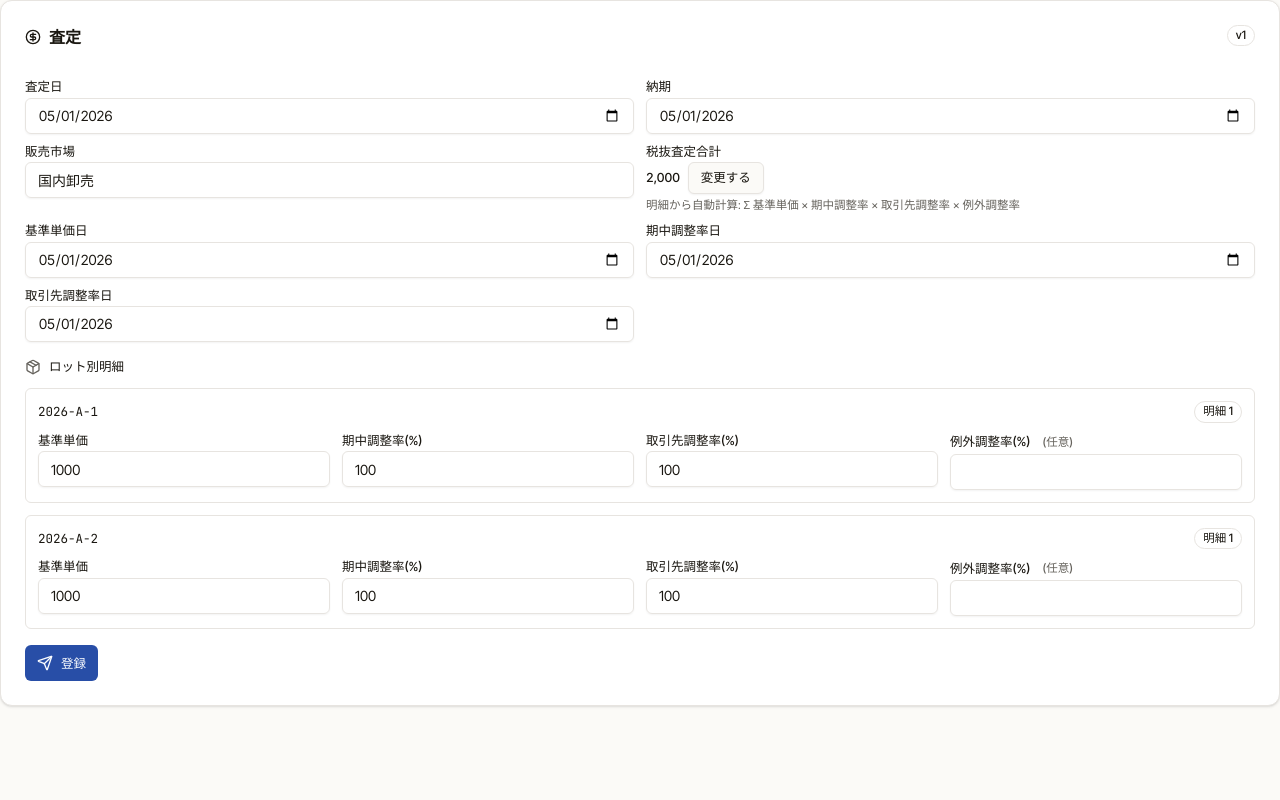
Test case: DirectAppraisalForm (FE-COMP-RICH-DA-*) › FE-COMP-RICH-DA-004: 単価/調整率を変えると税抜査定合計が `Σ 基準単価 × rate ÷ 100` で即更新
Expected: the text "2,000" is shown, 646,169 -> 680,187
Step 1. Replace the text in the number field labelled "基準単価" below "2026-A-1" with "2000" → (184, 469), box 38,451 -> 330,487
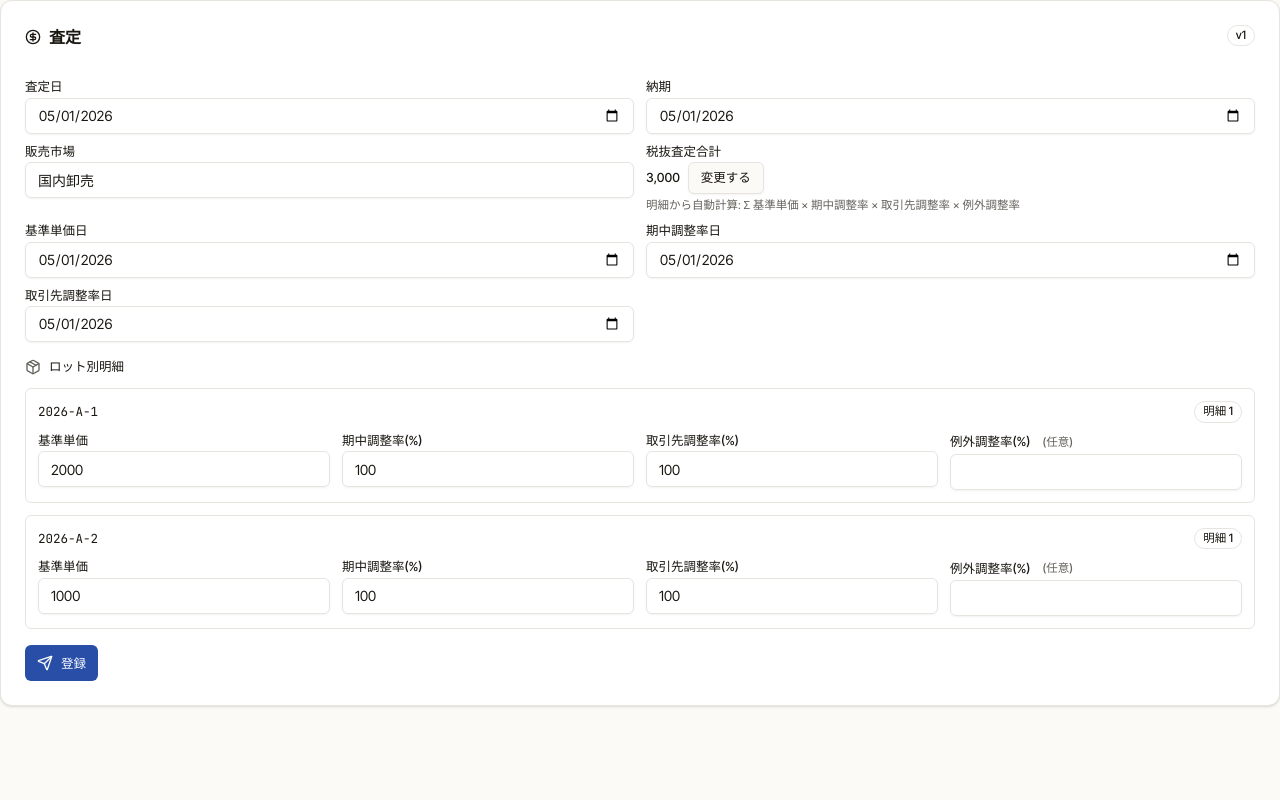
Step 2. Replace the text in the number field labelled "期中調整率(%)" below "2026-A-1" with "110" → (488, 469), box 342,451 -> 634,487
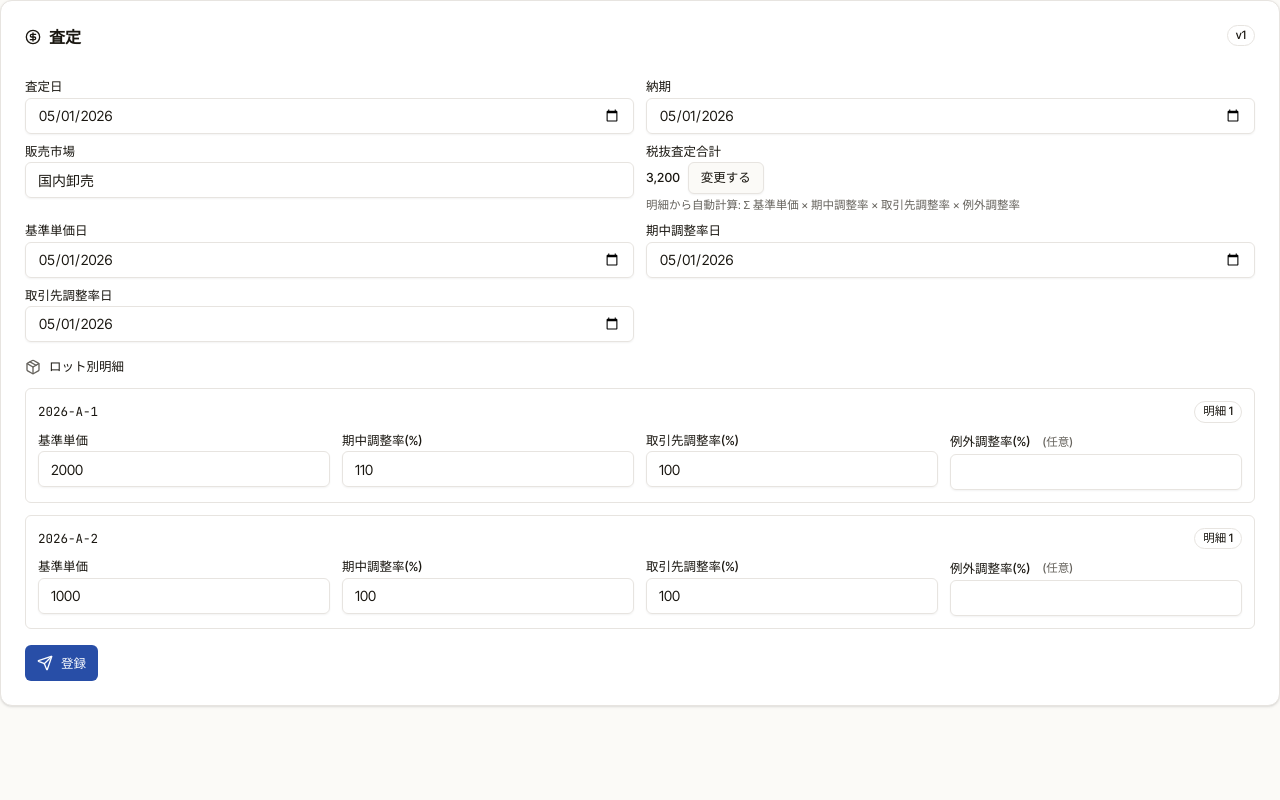
Now the text "3,200" is shown, box 646,169 -> 680,187
